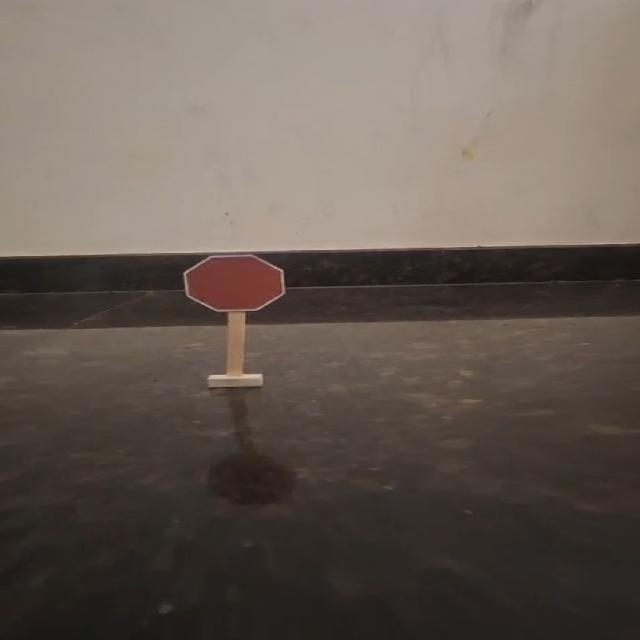Stop: (167, 248, 303, 318)
